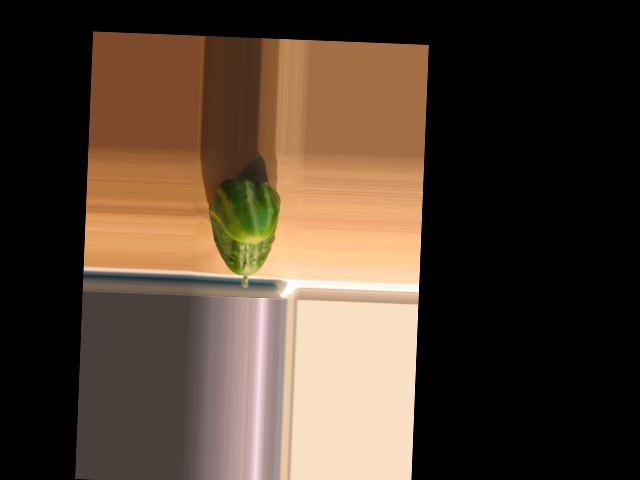cucumber: (206, 177, 282, 289)
